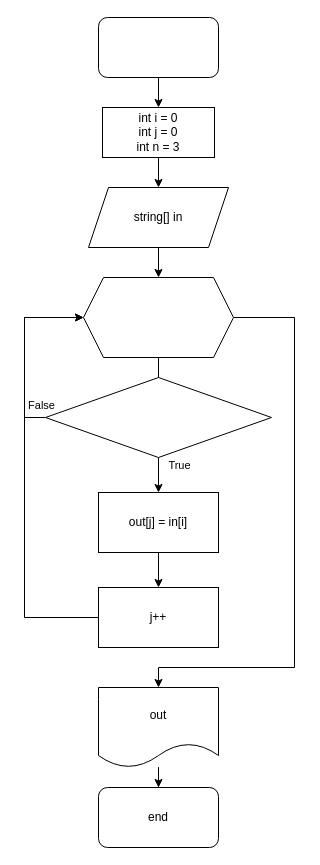
This 320x865 diagram has some shape labels left out. The shapes that lost their labels are listed below. From the top down, each one's centre as x and y in pixels, then its label:
point 158,47: start
point 158,317: i = 0; i < in.Length; i++
point 158,417: in[i] <= n
